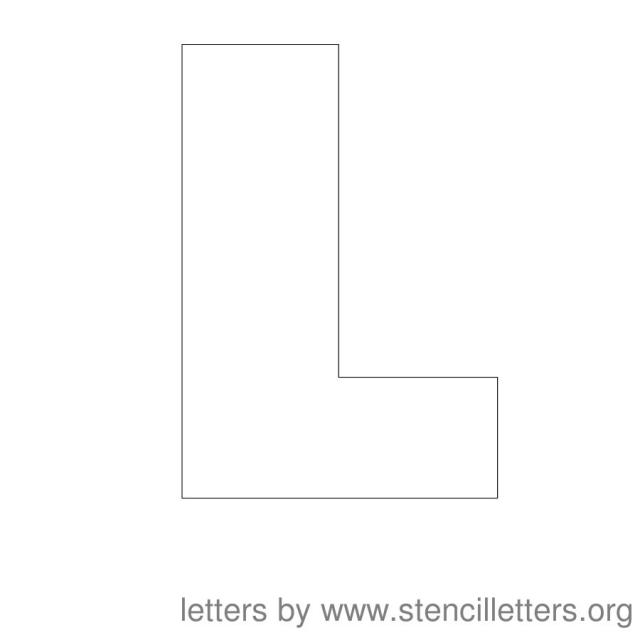L: (71, 20, 526, 530)
